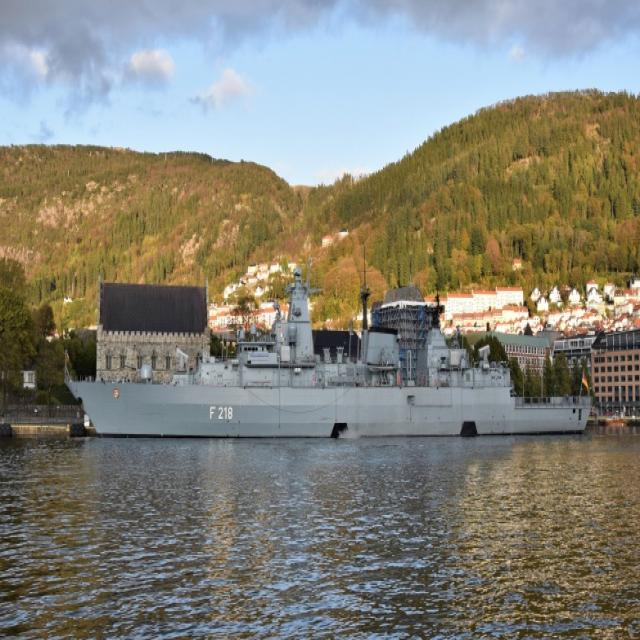Fragata: (62, 272, 597, 446)
